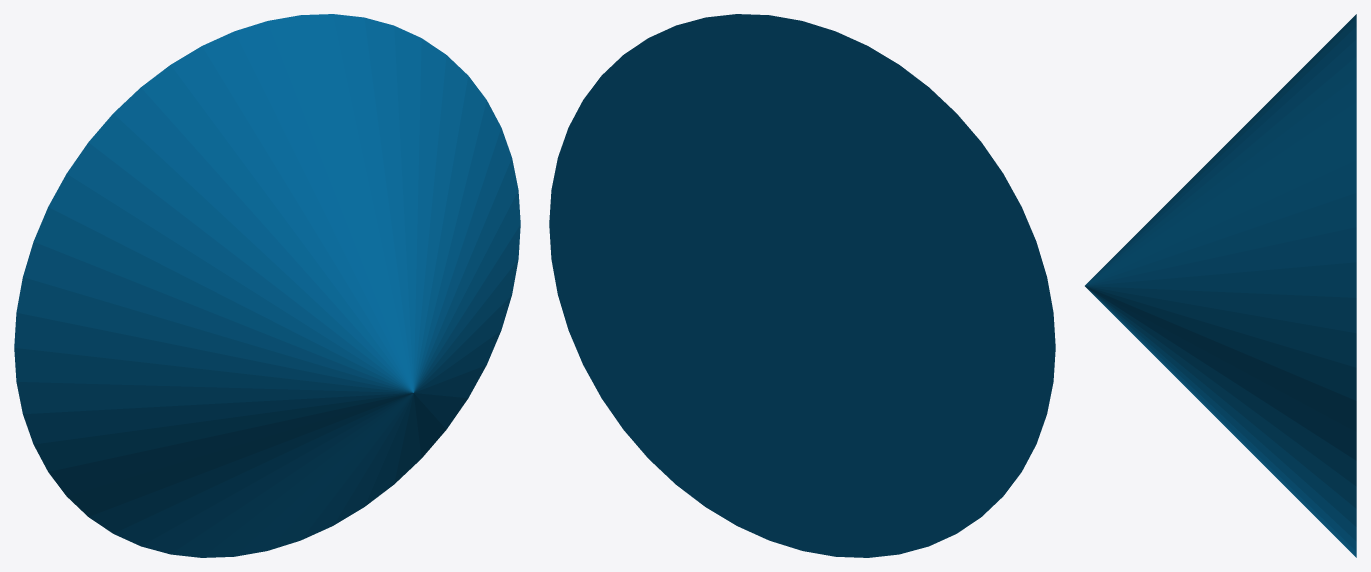
File: education.fbx
3 views of the same model, side by side, from view 1: azimuth 30°, elevation 25°; view 2: azimuth 150°, elevation 25°; view 3: azimuth 270°, elevation 25° (orthographic). The views are drawn at different scales.
Parts seen in each view (by area): view 1: ID12; view 2: skpqSbOmq; view 3: ID12.
Part boxes in pixels (<box>): ID12: <box>14,14,520,557</box>; skpqSbOmq: <box>549,14,1055,557</box>; ID12: <box>1085,14,1356,557</box>.
Size of the model in its own units: 1969 by 984 by 1969.
